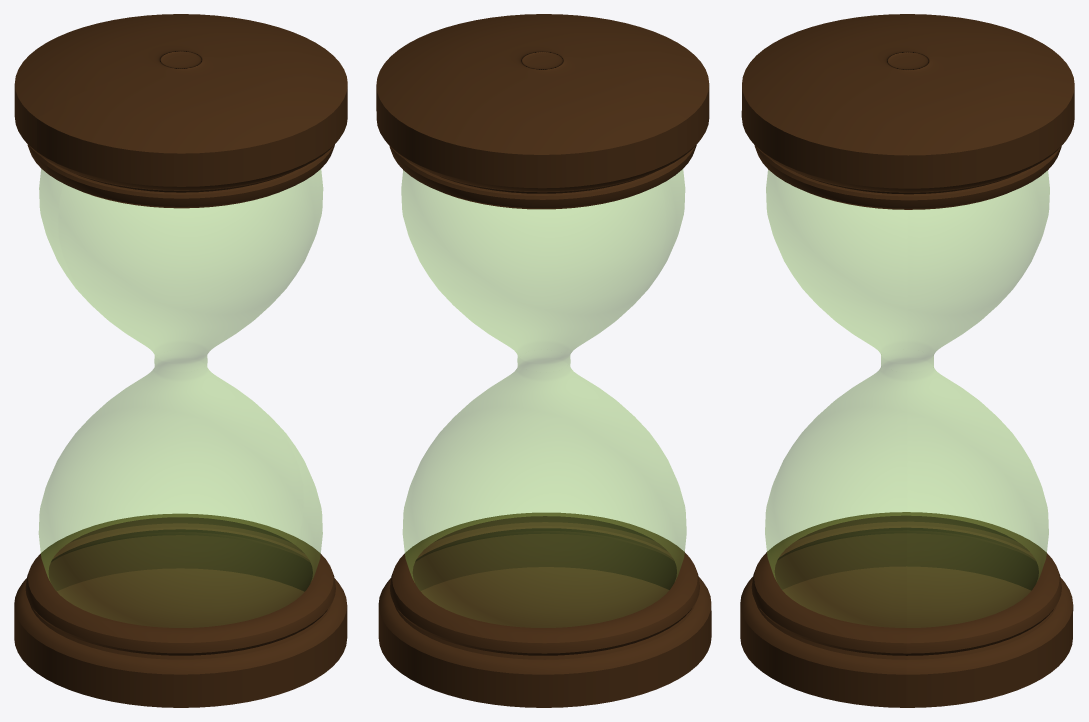
Rendered from hourglass.glb.
3 views of the same model, side by side, from view 1: azimuth 30°, elevation 25°; view 2: azimuth 150°, elevation 25°; view 3: azimuth 270°, elevation 25° (orthographic).
Parts seen in each view (by area): view 1: Cube; view 2: Cube; view 3: Cube.
Boxes of the visible parts, x1,y1,x2,y2 form: Cube: (14, 14, 347, 707); Cube: (376, 14, 711, 707); Cube: (740, 14, 1074, 707).
Size of the model in its own units: 2.16 by 4.29 by 2.16.
